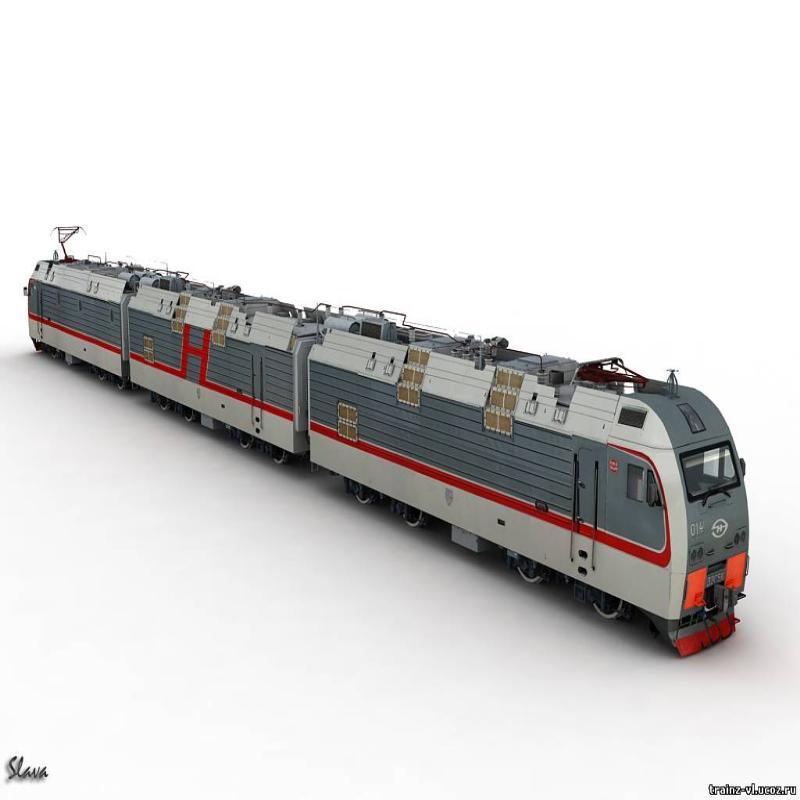train: (307, 258, 773, 675), (118, 223, 324, 475), (18, 214, 157, 406)
